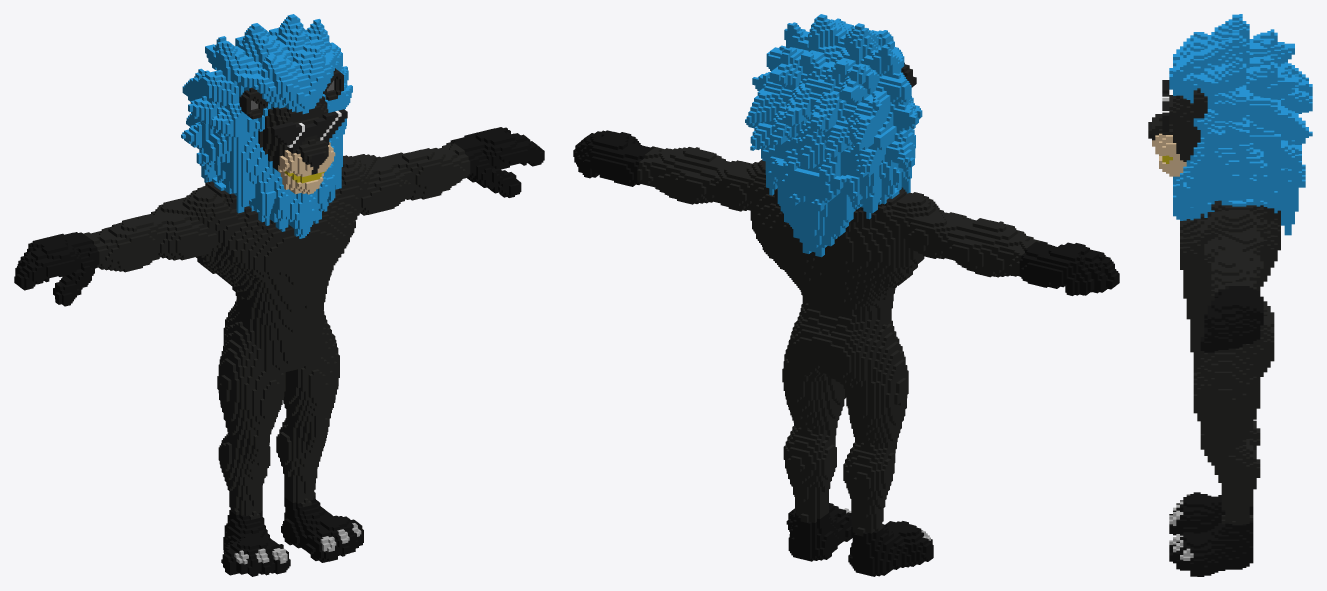
File: 757-VCx65WEx.glb
The picture shows the model from 3 angles, left to right: view 1: azimuth 30°, elevation 25°; view 2: azimuth 150°, elevation 25°; view 3: azimuth 270°, elevation 25°; orthographic projection. The views are drawn at different scales.
Parts seen in each view (by area): view 1: gold_smile; view 2: gold_smile; view 3: gold_smile.
Part boxes in pixels (x1,y1,x2,y2): gold_smile: (14,14,544,576); gold_smile: (573,14,1119,576); gold_smile: (1148,14,1312,576).
Bounding box in the file's own units: 17.2 × 16.5 × 4.7.
4 materials, 4 textured.
